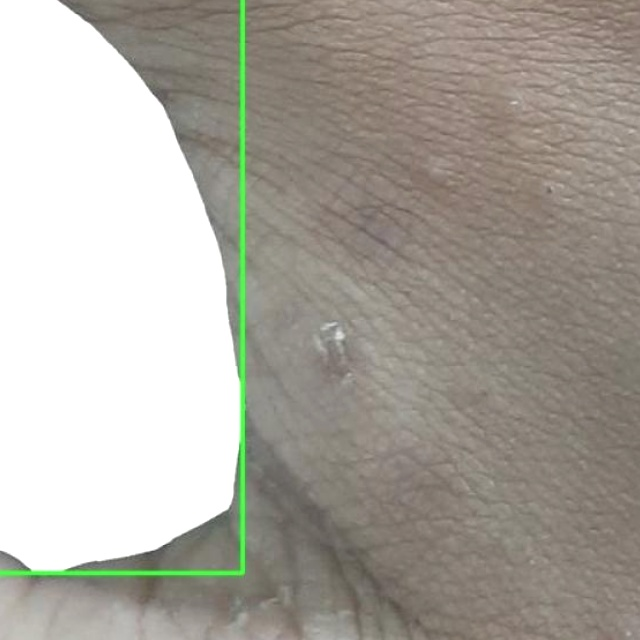Scabies: (0, 0, 242, 572)
